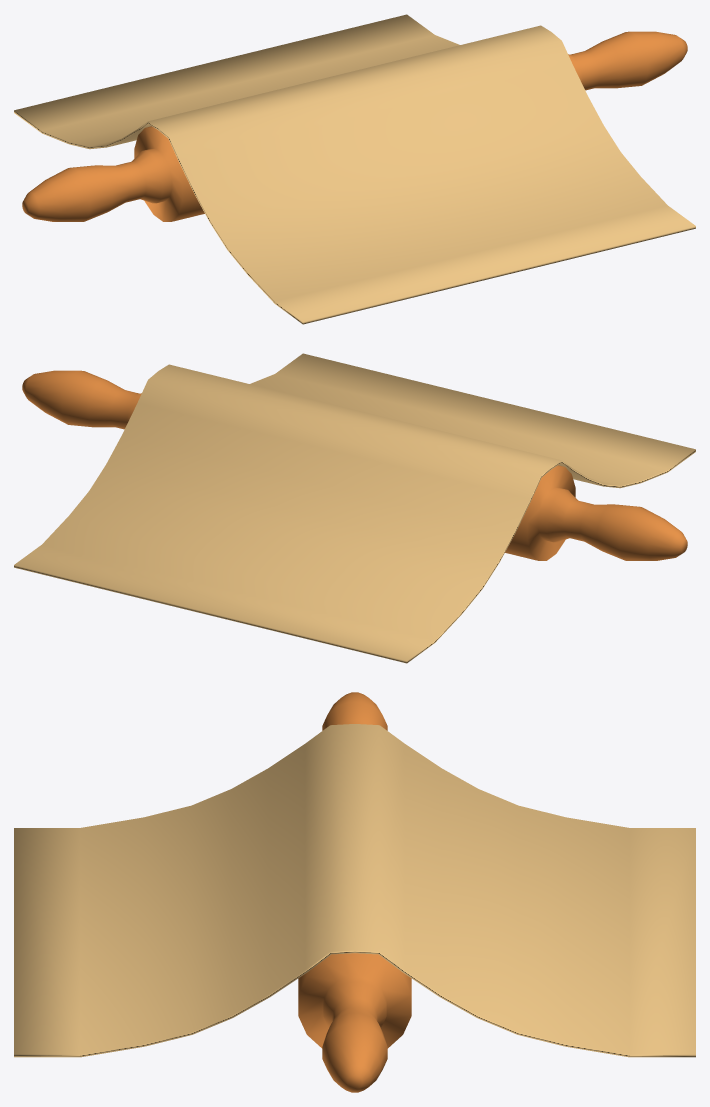
Rendered from RollingPin+Dough.fbx.
3 views of the same model, one above another, from view 1: azimuth 30°, elevation 25°; view 2: azimuth 150°, elevation 25°; view 3: azimuth 270°, elevation 25° (orthographic). The views are drawn at different scales.
Parts seen in each view (by area): view 1: Dough, LowPolyPin; view 2: Dough, LowPolyPin; view 3: Dough, LowPolyPin.
Part boxes in pixels (bbox=[...]): Dough: bbox=[14, 14, 695, 324]; LowPolyPin: bbox=[22, 31, 687, 221]; Dough: bbox=[14, 353, 695, 663]; LowPolyPin: bbox=[22, 370, 687, 560]; Dough: bbox=[14, 724, 695, 1057]; LowPolyPin: bbox=[298, 692, 411, 1092].
Bounding box in the file's own units: 4211 × 555 × 3199.
